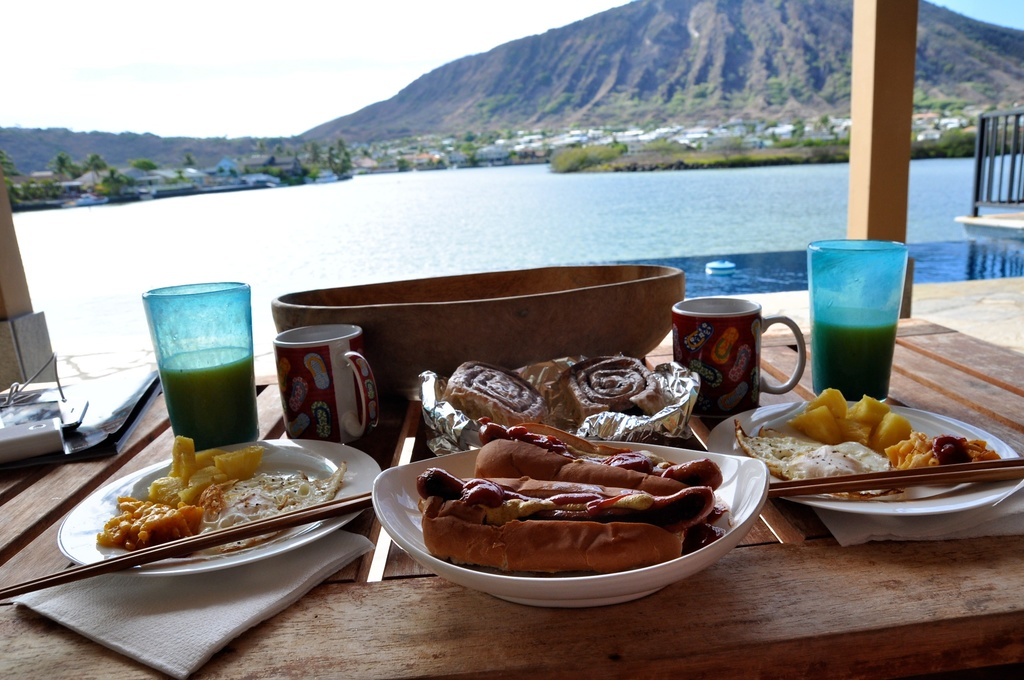hot_dog: (414, 462, 721, 563), (476, 422, 721, 523)
